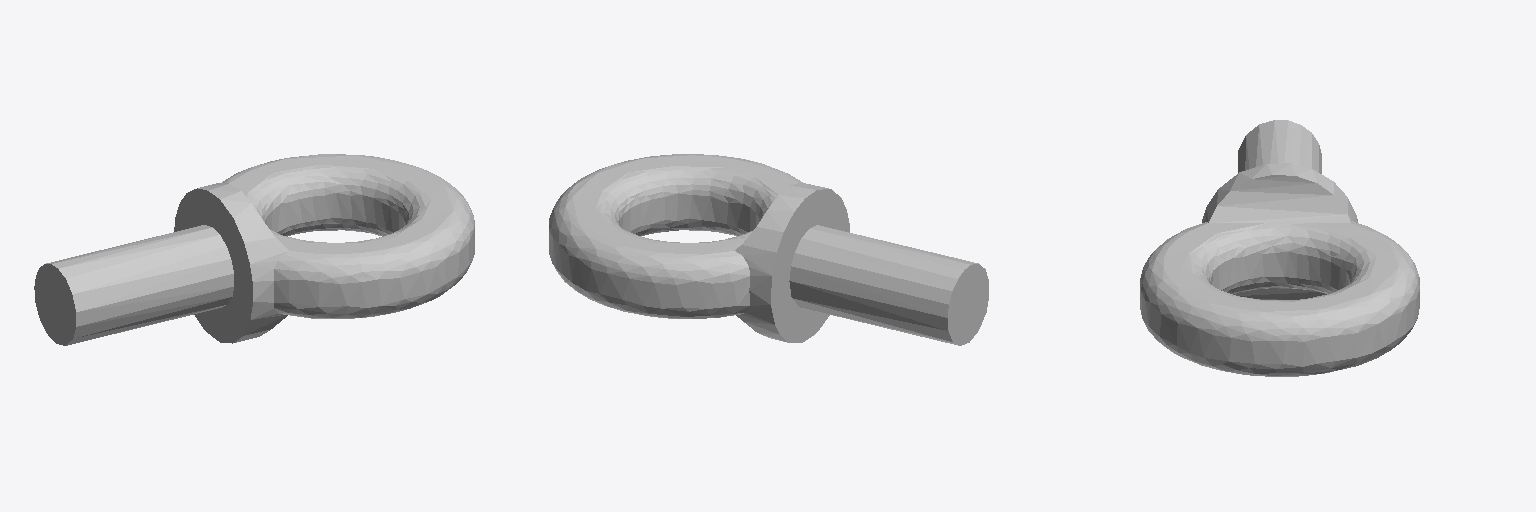
The picture shows the model from 3 angles: view 1: azimuth 30°, elevation 25°; view 2: azimuth 150°, elevation 25°; view 3: azimuth 270°, elevation 25°; orthographic projection.
Parts seen in each view (by area): view 1: imagetostl_mesh0; view 2: imagetostl_mesh0; view 3: imagetostl_mesh0.
Part boxes in pixels (left/top/right/bottom): imagetostl_mesh0: left=34, top=154, right=474, bottom=345; imagetostl_mesh0: left=549, top=154, right=988, bottom=345; imagetostl_mesh0: left=1140, top=120, right=1419, bottom=376.
Size of the model in its own units: 99.02 by 34 by 60.04.